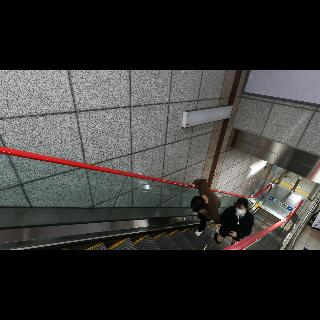normal: (215, 197, 255, 247), (190, 176, 220, 238)
